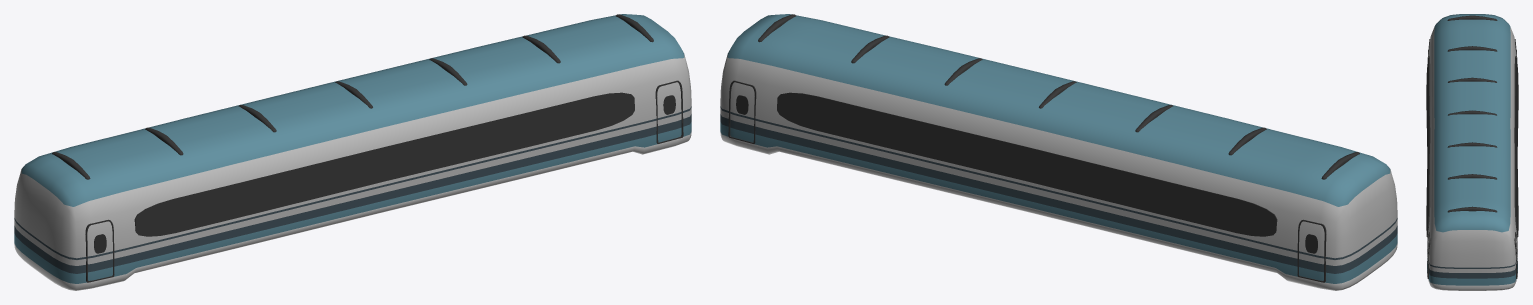
File: HighSpeed_Wagon.fbx
3 renders of one model, left to right at view 1: azimuth 30°, elevation 25°; view 2: azimuth 150°, elevation 25°; view 3: azimuth 270°, elevation 25°, orthographic. The views are drawn at different scales.
Visible parts, largest first — view 1: HighspeedTrain_Wagon; view 2: HighspeedTrain_Wagon; view 3: HighspeedTrain_Wagon.
Part boxes in pixels (x1=…): HighspeedTrain_Wagon: x1=14, y1=14, x2=691, y2=290; HighspeedTrain_Wagon: x1=720, y1=14, x2=1397, y2=290; HighspeedTrain_Wagon: x1=1426, y1=14, x2=1518, y2=290.
Size of the model in its own units: 1118 by 190 by 203.
